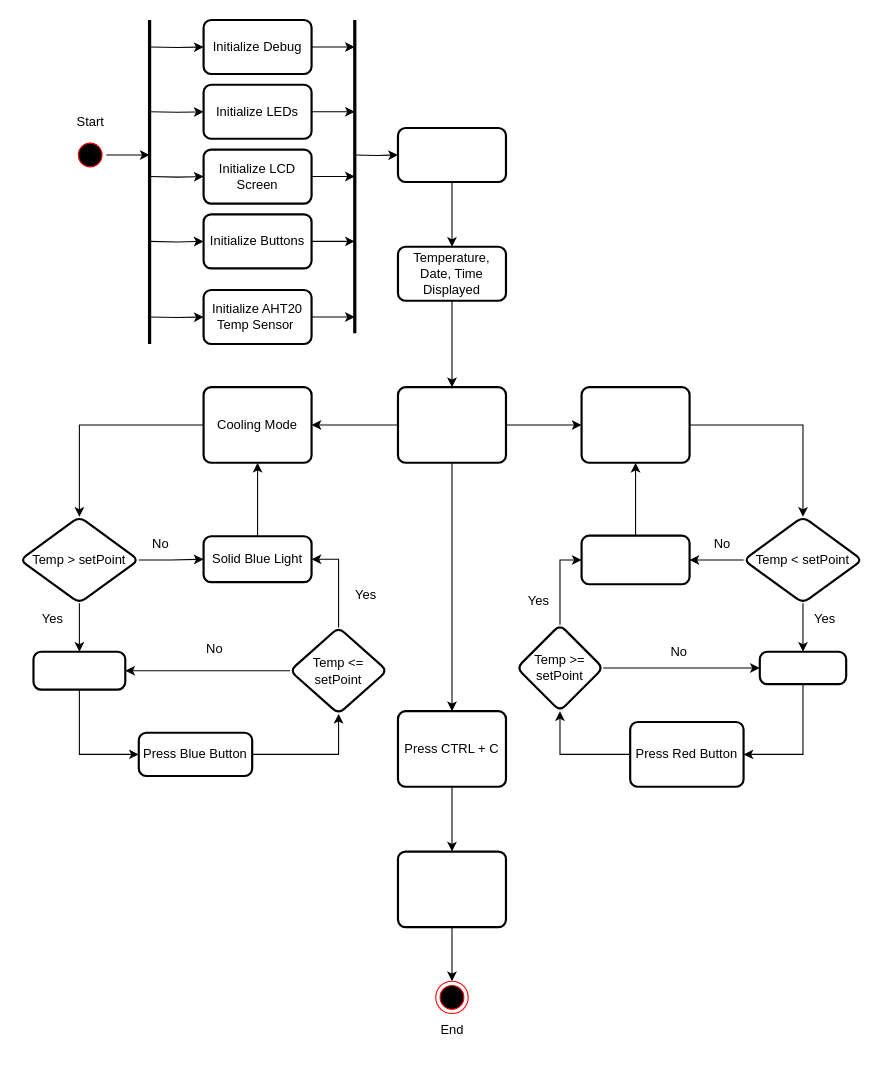
Some shapes in this 881 by 1065 pixel diagram are drawn without their labels. The centre of each missing label's shape, as x and y in pixels:
"Blue Light Pulses" goes at point (79, 670).
"Date Off, Time Off, GPIO and Display Cleared" goes at point (451, 889).
"Heating Mode" goes at point (635, 424).
"Off Mode" goes at point (451, 154).
"Press Green Button" goes at point (451, 424).
"Red Light Pulses" goes at point (802, 667).
"Solid Red Light" goes at point (635, 559).
